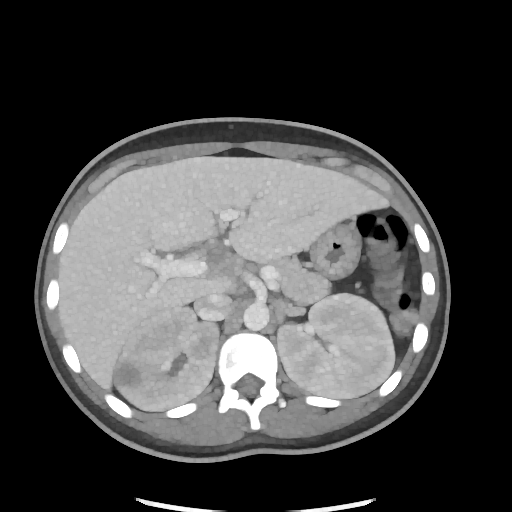Lesion: (110, 358, 146, 391)
